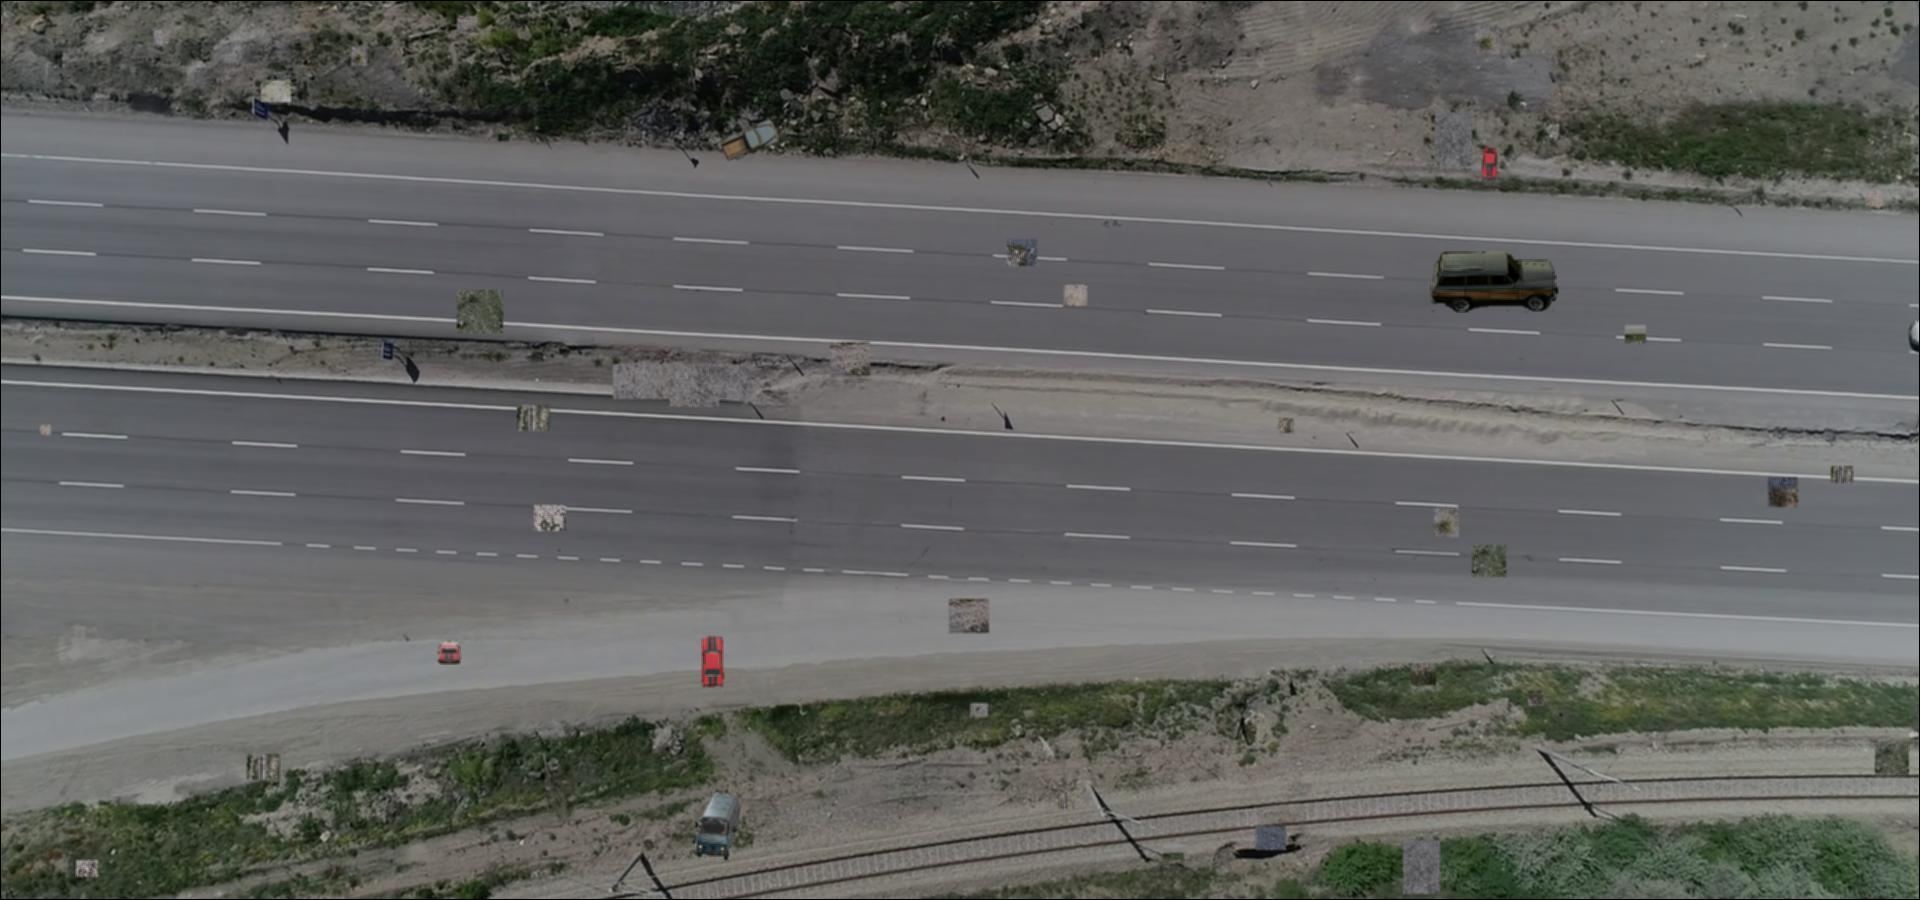arac: (1431, 252, 1558, 312), (693, 792, 741, 860), (720, 118, 781, 160), (699, 636, 725, 689), (1480, 147, 1499, 180), (435, 640, 460, 664)
